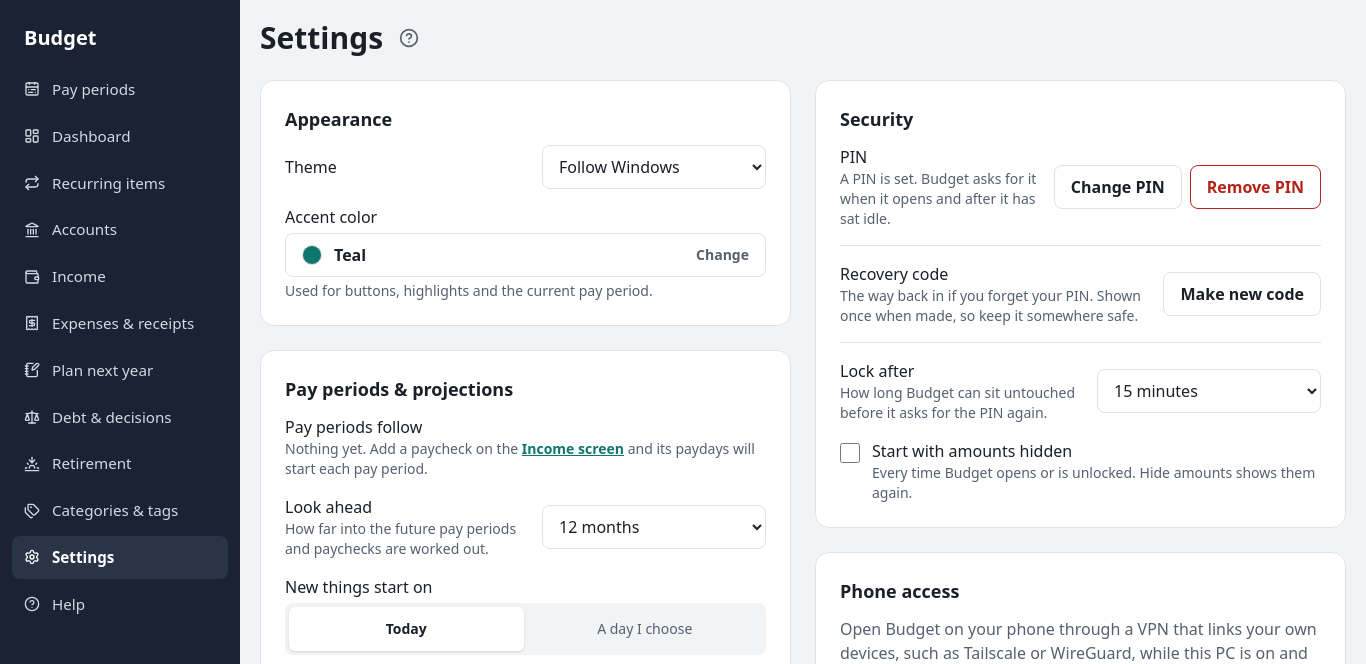
the lock screen › locks when a request finds the session has run out
Select "Dark" in the dropdown labelled "Theme". click: (654, 167)
box: [542,145,766,189]
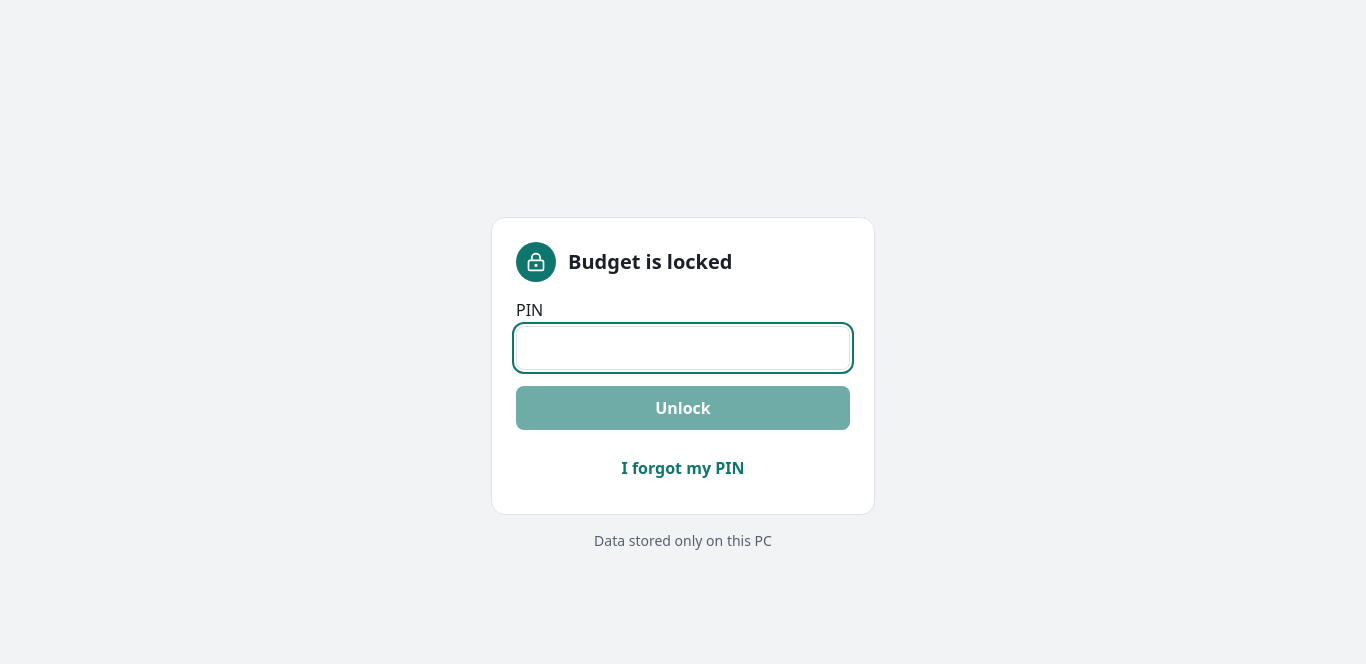
Expected: the heading "Budget is locked" is shown, [568,248,732,276]
Expected: the label labelled "Theme" is gone
